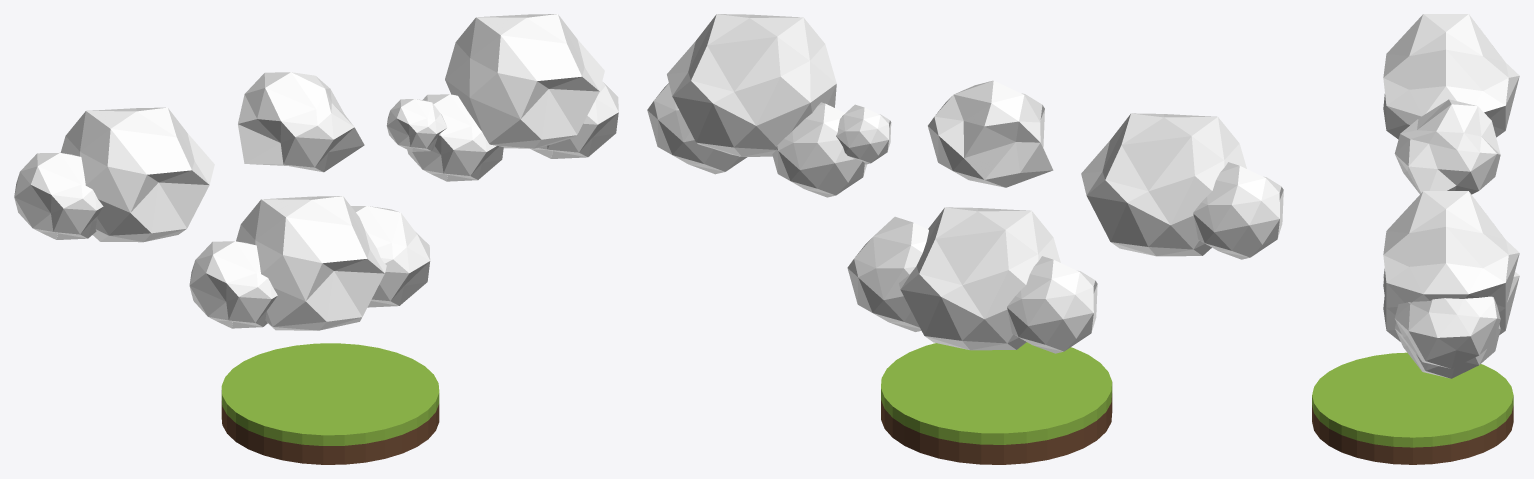
Rendered from cloud-low-poly-blend.fbx.
3 renders of one model, left to right at view 1: azimuth 30°, elevation 25°; view 2: azimuth 150°, elevation 25°; view 3: azimuth 270°, elevation 25°, orthographic. The views are drawn at different scales.
Visible parts, largest first — view 1: Cylinder.005, Icosphere.005, Icosphere, Icosphere.002, Icosphere.009, Icosphere.001, Icosphere.003, Icosphere.004, Icosphere.006, Icosphere.007, Icosphere.008; view 2: Cylinder.005, Icosphere.005, Icosphere, Icosphere.002, Icosphere.009, Icosphere.003, Icosphere.001, Icosphere.004, Icosphere.006, Icosphere.007, Icosphere.008; view 3: Cylinder.005, Icosphere.005, Icosphere, Icosphere.009, Icosphere.007, Icosphere.004, Icosphere.002.
Boxes of the visible parts, x1=… form: Cylinder.005: x1=221, y1=343, x2=439, y2=464; Icosphere.005: x1=445, y1=14, x2=604, y2=148; Icosphere: x1=60, y1=107, x2=214, y2=242; Icosphere.002: x1=236, y1=196, x2=386, y2=330; Icosphere.009: x1=238, y1=72, x2=364, y2=172; Icosphere.001: x1=14, y1=152, x2=103, y2=239; Icosphere.003: x1=189, y1=241, x2=277, y2=328; Icosphere.004: x1=351, y1=206, x2=430, y2=307; Icosphere.006: x1=407, y1=94, x2=503, y2=181; Icosphere.007: x1=530, y1=81, x2=618, y2=158; Icosphere.008: x1=386, y1=99, x2=447, y2=151; Cylinder.005: x1=881, y1=342, x2=1112, y2=464; Icosphere.005: x1=667, y1=14, x2=836, y2=156; Icosphere: x1=1081, y1=113, x2=1246, y2=256; Icosphere.002: x1=899, y1=207, x2=1060, y2=350; Icosphere.009: x1=928, y1=80, x2=1053, y2=187; Icosphere.003: x1=1007, y1=256, x2=1097, y2=353; Icosphere.001: x1=1193, y1=162, x2=1283, y2=259; Icosphere.004: x1=847, y1=216, x2=928, y2=331; Icosphere.006: x1=772, y1=102, x2=866, y2=197; Icosphere.007: x1=647, y1=83, x2=747, y2=174; Icosphere.008: x1=836, y1=104, x2=891, y2=164; Cylinder.005: x1=1312, y1=352, x2=1513, y2=464; Icosphere.005: x1=1383, y1=191, x2=1519, y2=314; Icosphere: x1=1383, y1=14, x2=1519, y2=139; Icosphere.009: x1=1394, y1=99, x2=1500, y2=194; Icosphere.007: x1=1394, y1=296, x2=1500, y2=368; Icosphere.004: x1=1395, y1=322, x2=1500, y2=378; Icosphere.002: x1=1383, y1=268, x2=1519, y2=341.
Size of the model in its own units: 627 by 342 by 206.
